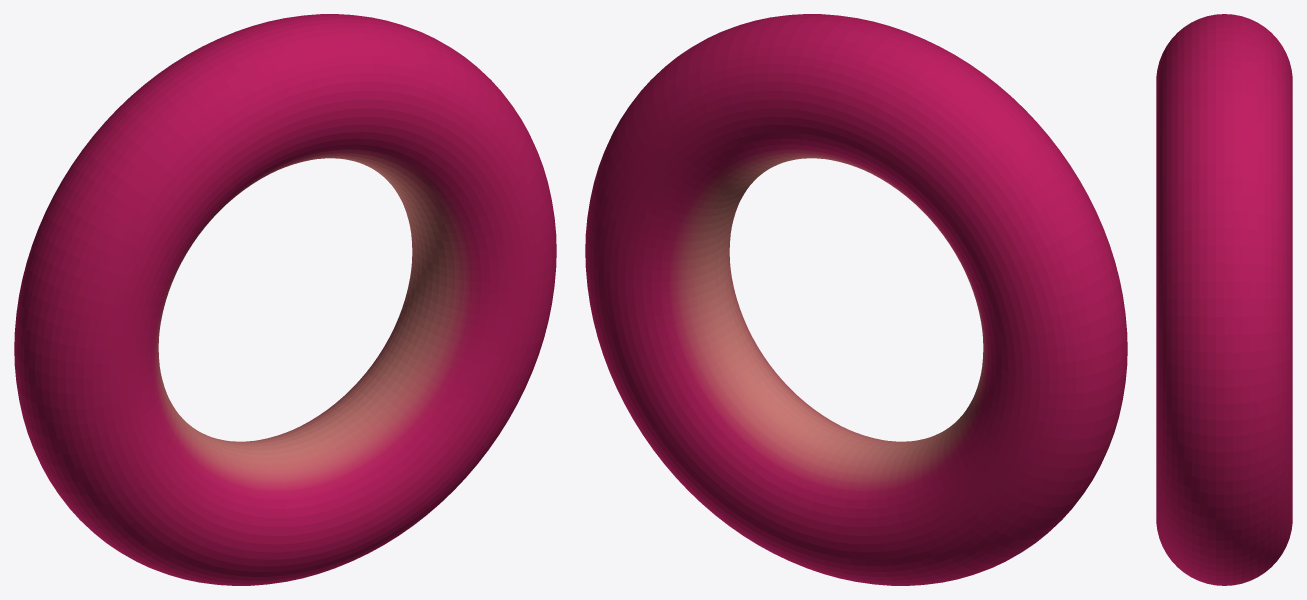
The picture shows the model from 3 angles, left to right: view 1: azimuth 30°, elevation 25°; view 2: azimuth 150°, elevation 25°; view 3: azimuth 270°, elevation 25°; orthographic projection. The views are drawn at different scales.
Parts seen in each view (by area): view 1: world; view 2: world; view 3: world.
Boxes of the visible parts, bbox=[...] form: world: bbox=[14, 14, 556, 585]; world: bbox=[585, 14, 1127, 585]; world: bbox=[1156, 14, 1292, 585].
Size of the model in its own units: 18.4 by 18.4 by 4.39.
